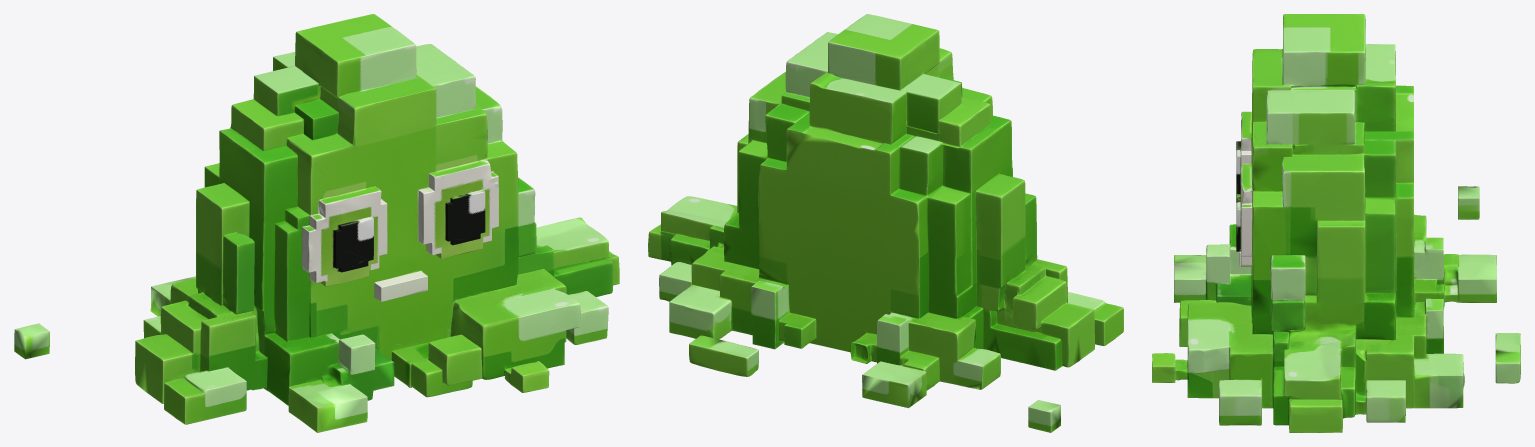
The model's file is Slime.fbx.
3 views of the same model, side by side, from view 1: azimuth 30°, elevation 25°; view 2: azimuth 150°, elevation 25°; view 3: azimuth 270°, elevation 25° (orthographic). The views are drawn at different scales.
Parts seen in each view (by area): view 1: Mesh_0; view 2: Mesh_0; view 3: Mesh_0.
Boxes of the visible parts, left/top/right/bottom form: Mesh_0: left=14, top=14, right=619, bottom=432; Mesh_0: left=648, top=14, right=1123, bottom=432; Mesh_0: left=1152, top=14, right=1520, bottom=432.
Bounding box in the file's own units: 190 × 112 × 123.
Materials: 1 (1 with a texture image).
